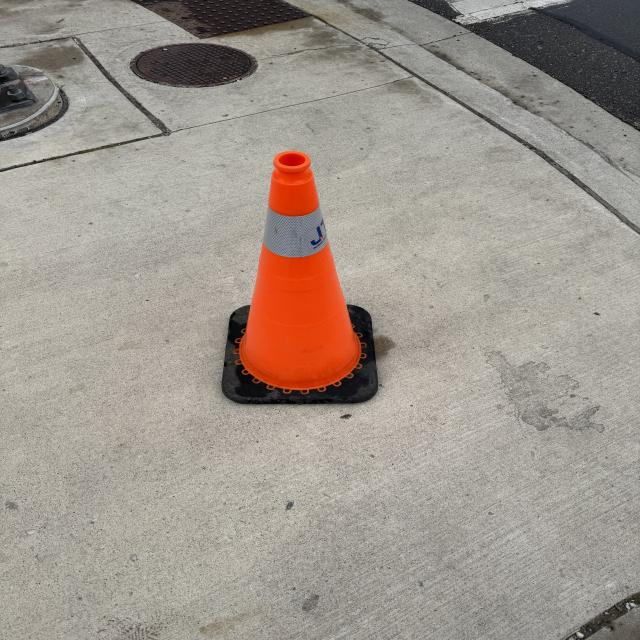Traffic Cone: (223, 151, 381, 405)
